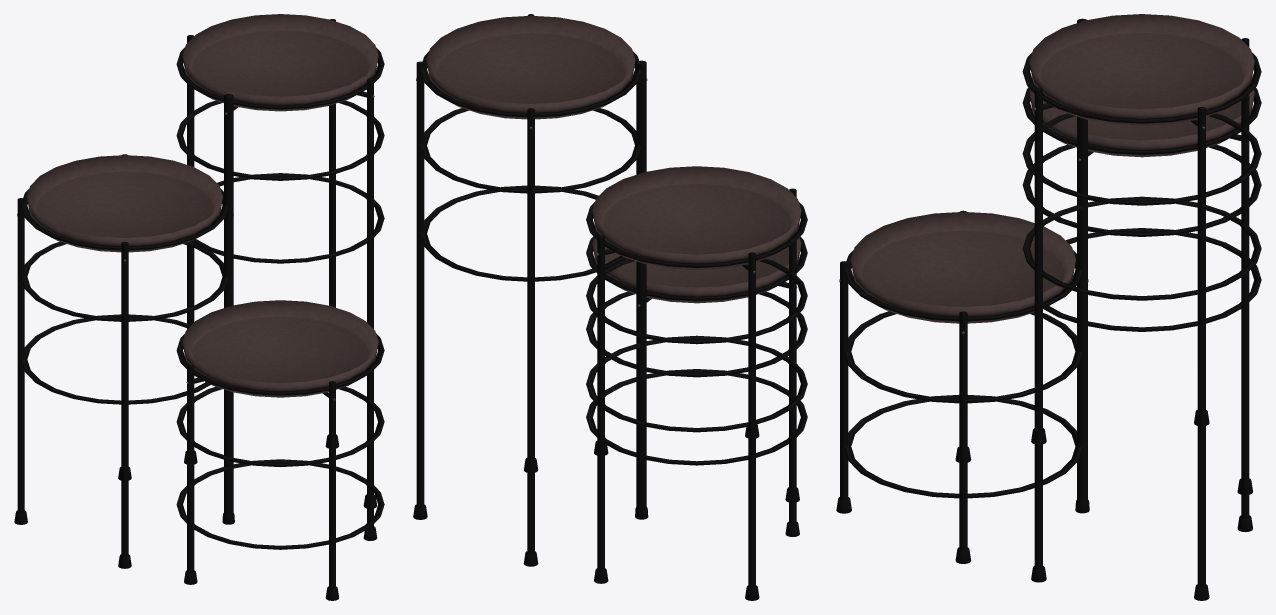
File: Furniture_flowerstand_01a_LOD1.fbx
3 renders of one model, left to right at view 1: azimuth 30°, elevation 25°; view 2: azimuth 150°, elevation 25°; view 3: azimuth 270°, elevation 25°, orthographic. The views are drawn at different scales.
Visible parts, largest first — view 1: Furniture_flowerstand_01a_LOD1; view 2: Furniture_flowerstand_01a_LOD1; view 3: Furniture_flowerstand_01a_LOD1.
Part boxes in pixels (bbox=[...]): Furniture_flowerstand_01a_LOD1: bbox=[14, 14, 384, 600]; Furniture_flowerstand_01a_LOD1: bbox=[413, 14, 807, 600]; Furniture_flowerstand_01a_LOD1: bbox=[836, 14, 1261, 600].
Bounding box in the file's own units: 64.61 × 78.82 × 61.69.
